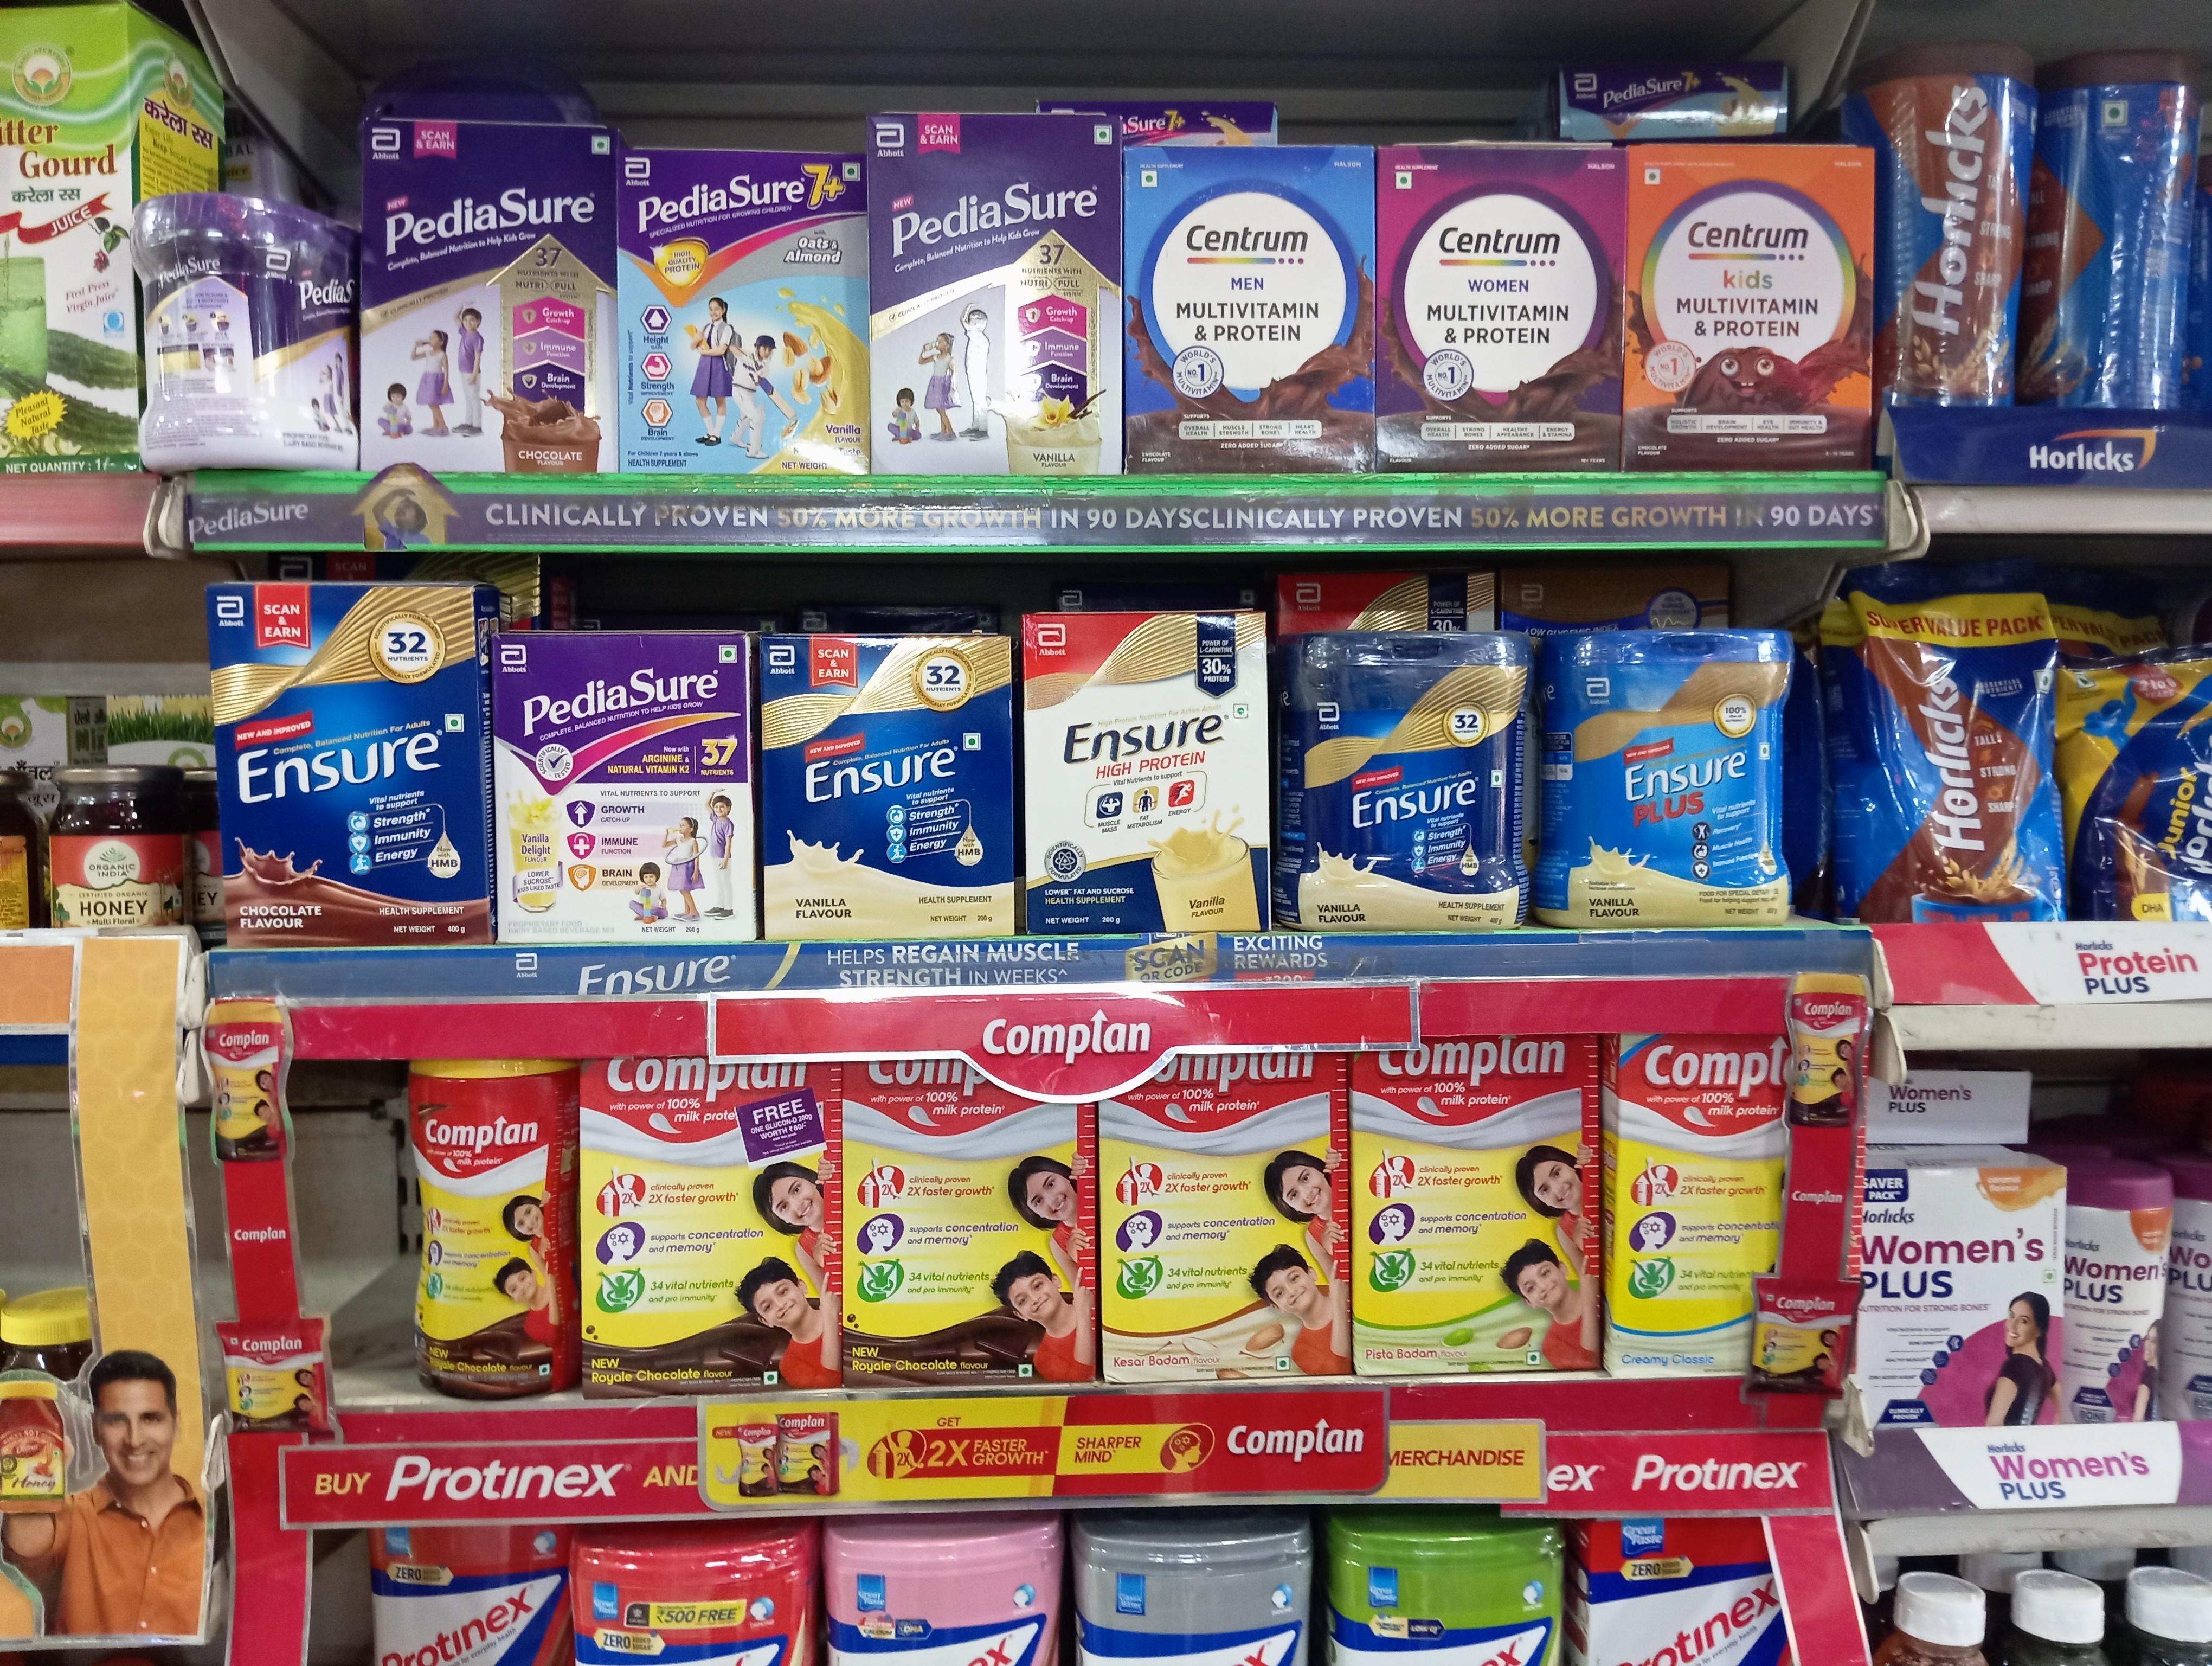COMPLAN_CHOCOLATE_500_GMS_JAR: (409, 1059, 577, 1395)
COMPLAN_CHOCOLATE_500_GMS_PACK: (582, 1061, 834, 1391), (846, 1067, 1093, 1381)
COMPLAN_CREAMY_CLASSIC_500_G_PACK: (1617, 1039, 1749, 1377)
COMPLAN_KESAR_BADAM_500_GMS_PACK: (1103, 1101, 1346, 1376)
COMPLAN_PISTA_BADAM_500_GMS_PACK: (1353, 1043, 1602, 1372)
ENSURE_VANILLA_400_G_PACK: (1028, 609, 1271, 928), (764, 637, 1014, 938)
HORLICK_CHOCOLATE_1_KG_JAR: (1880, 32, 2025, 408)
HORLICK_CHOCOLATE_750_G_POUCH: (1843, 560, 2056, 926)
PEDIASURE_CHOCOLATE_500_G_PACK: (353, 121, 607, 469)
PEDIASURE_VANILLA_500_G_PACK: (871, 117, 1123, 476)
